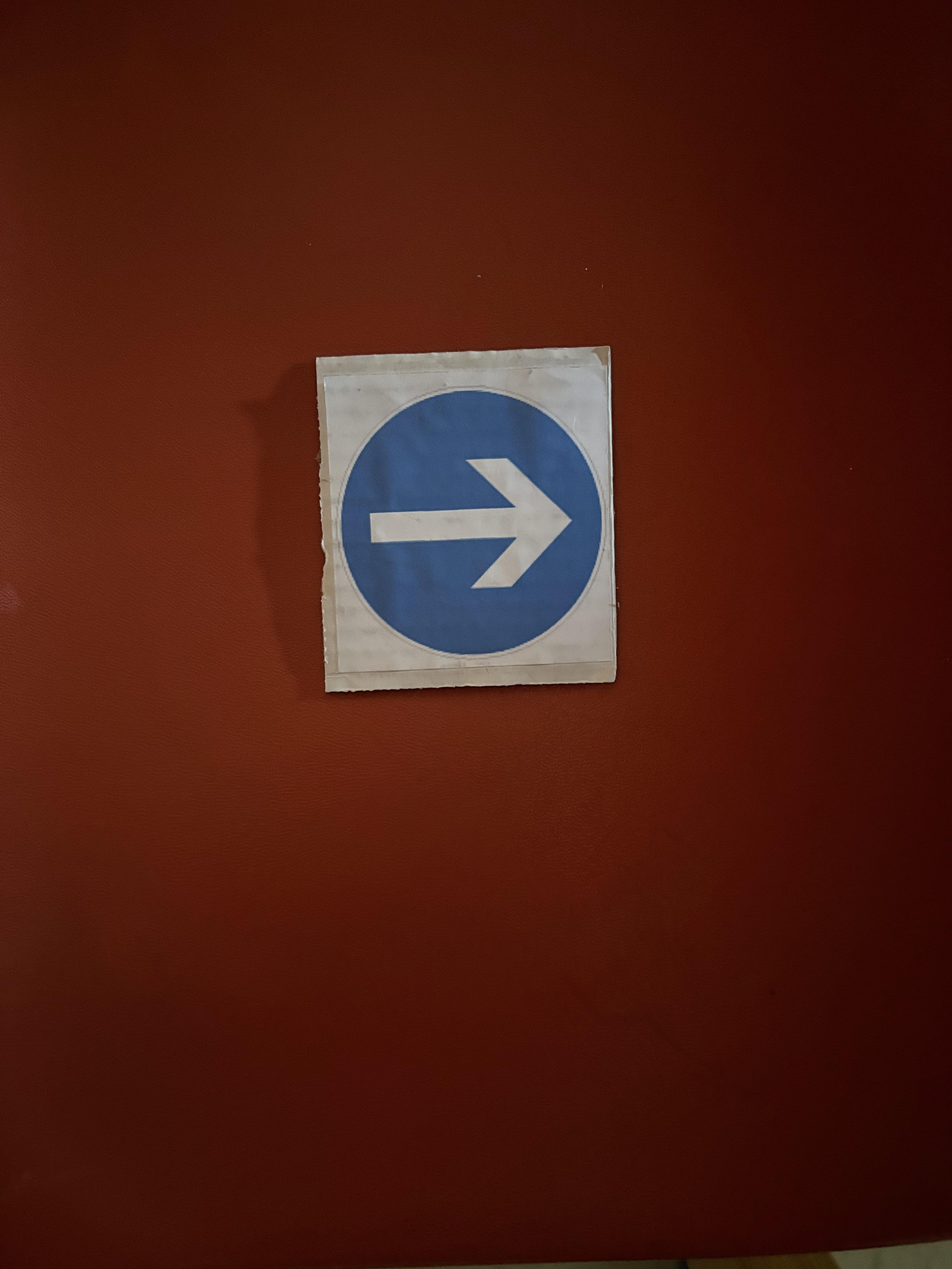Proceed Right: (316, 350, 624, 706)
